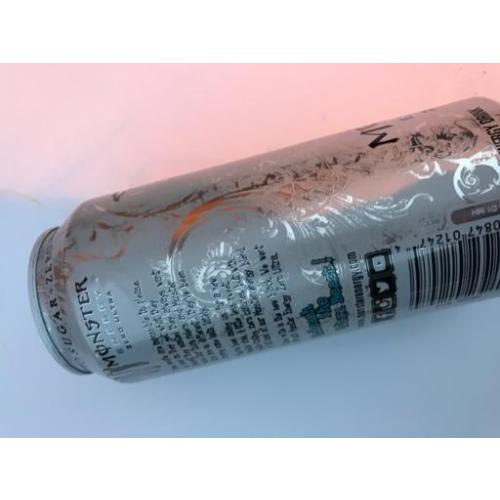metal: (31, 98, 499, 378)
